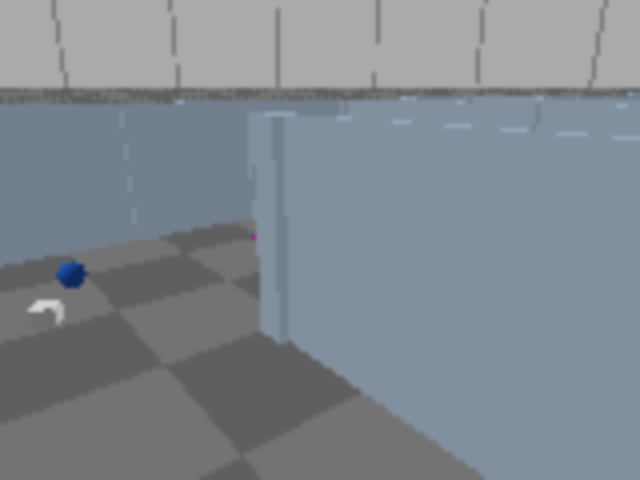puck: (51, 256, 93, 294), (29, 300, 64, 327)
